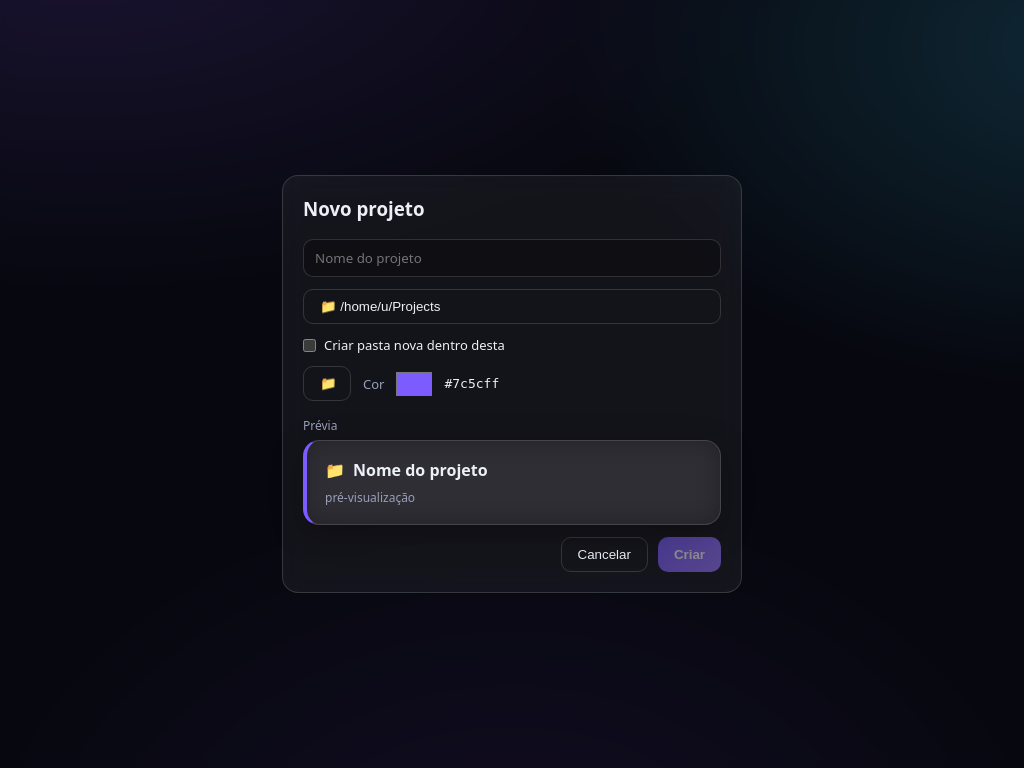
Test: NewProjectModal › pasta padrão › pasta que já existe: o erro do servidor aparece e o modal fica
expect the text "/home/u/Projects" is shown: met, box x1=340 y1=299 x2=440 y2=314
Click the checkbox labelled "Criar pasta nova dentro desta" at (310, 345), box x1=303 y1=339 x2=316 y2=352
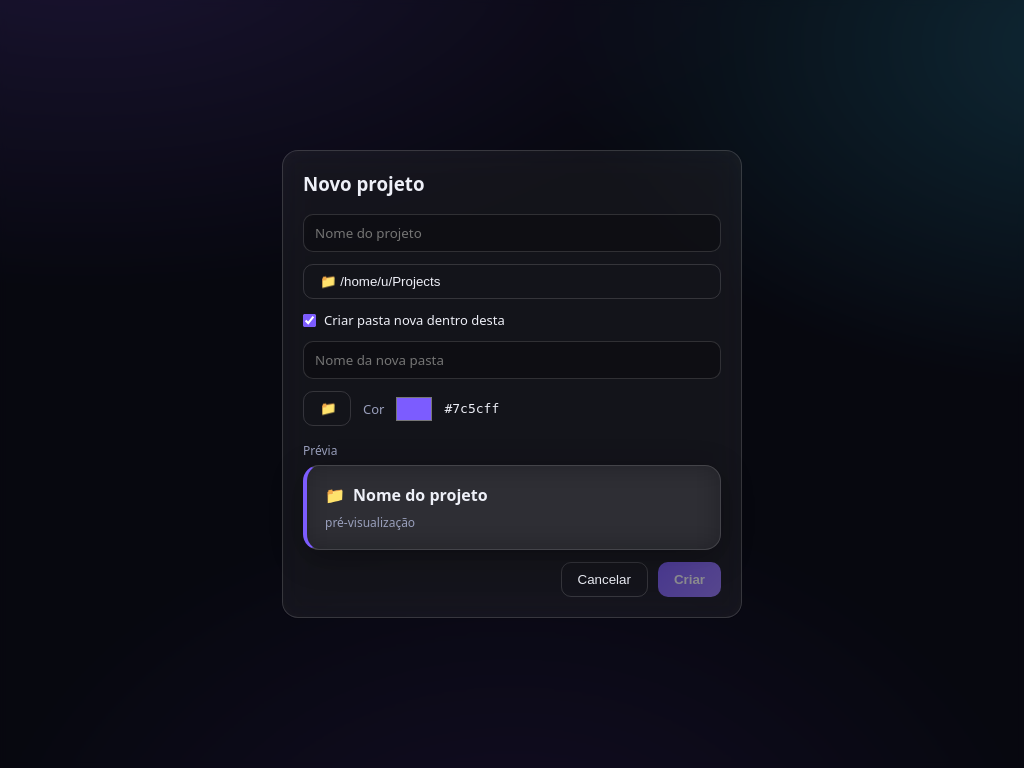
Type "Meu App" into the field with placeholder "Nome do projeto" at (512, 233), box x1=303 y1=214 x2=721 y2=252
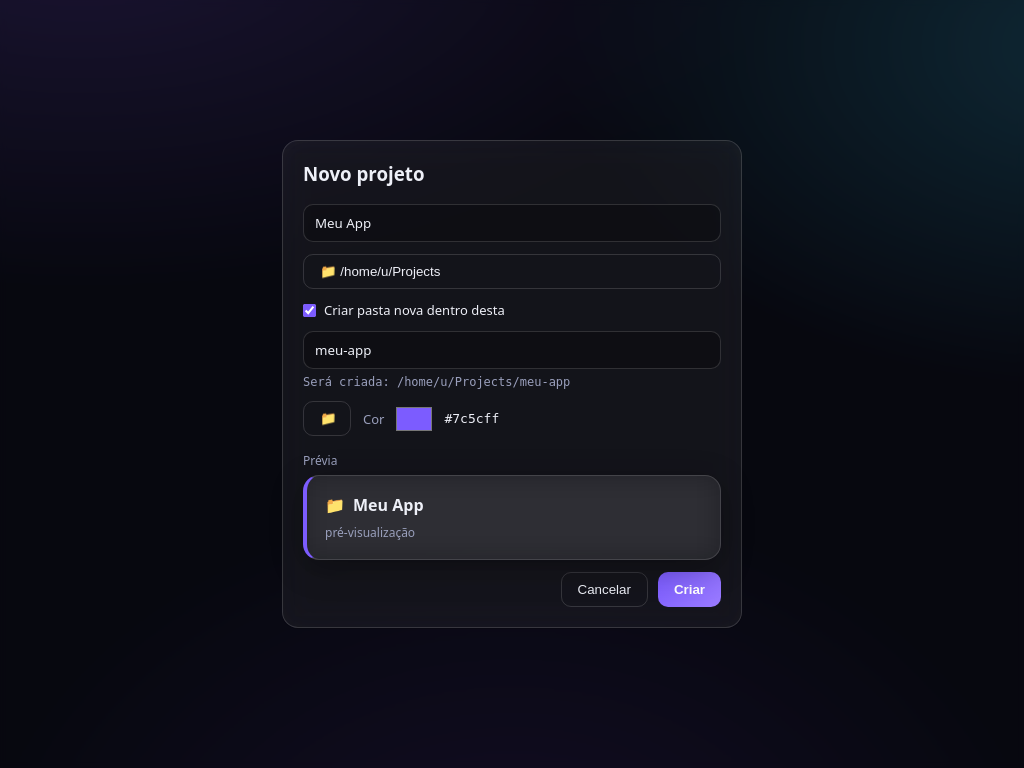
Click the button "Criar" at (689, 590), box x1=658 y1=572 x2=721 y2=607
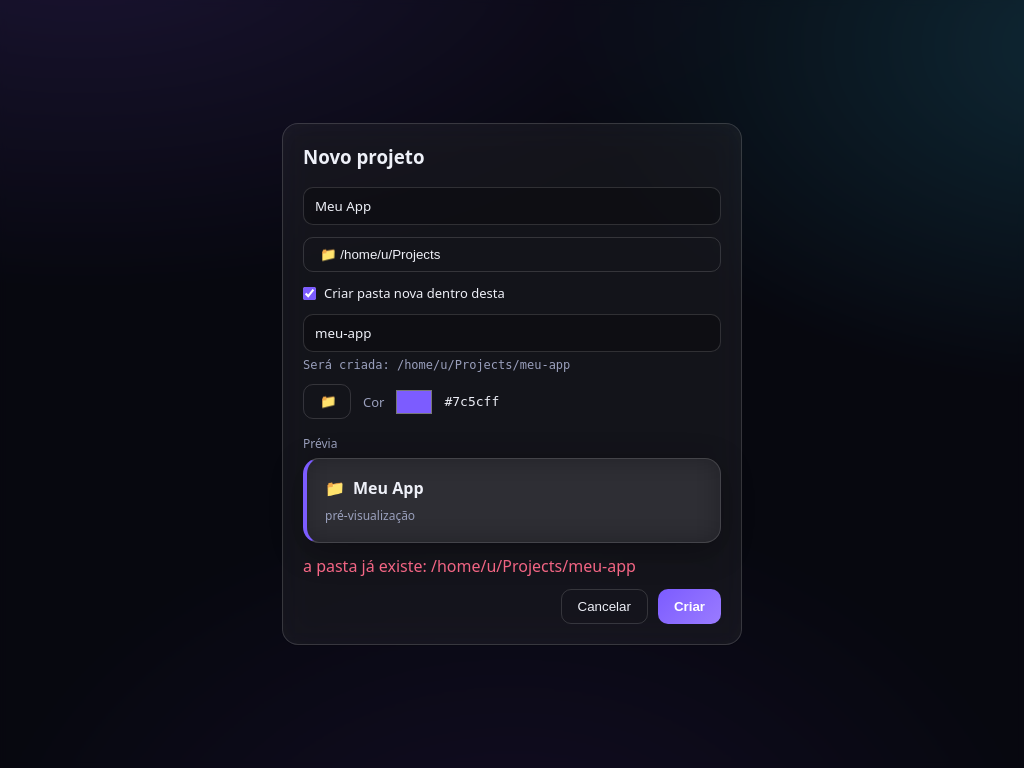
expect the text "a pasta já existe: /home/u/Projects/meu-app" is shown: met, box x1=303 y1=555 x2=636 y2=577
